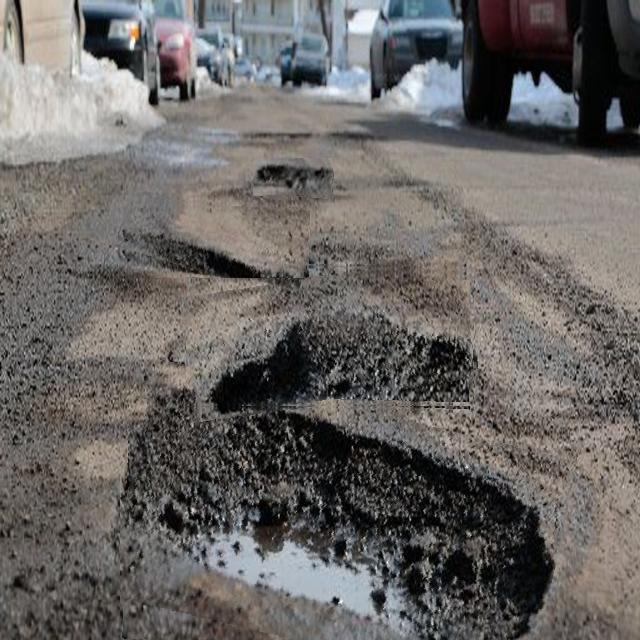Pothole: (120, 378, 571, 640), (183, 261, 474, 406), (118, 198, 310, 278), (254, 158, 334, 198)
